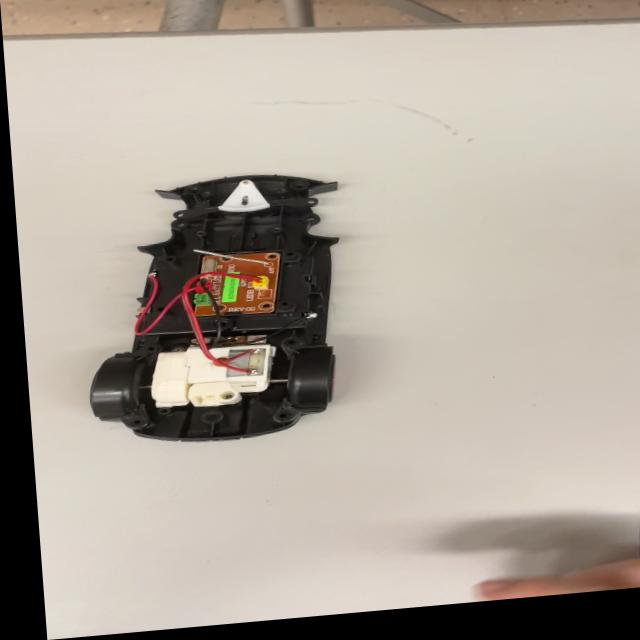Chassis: (77, 162, 369, 452)
